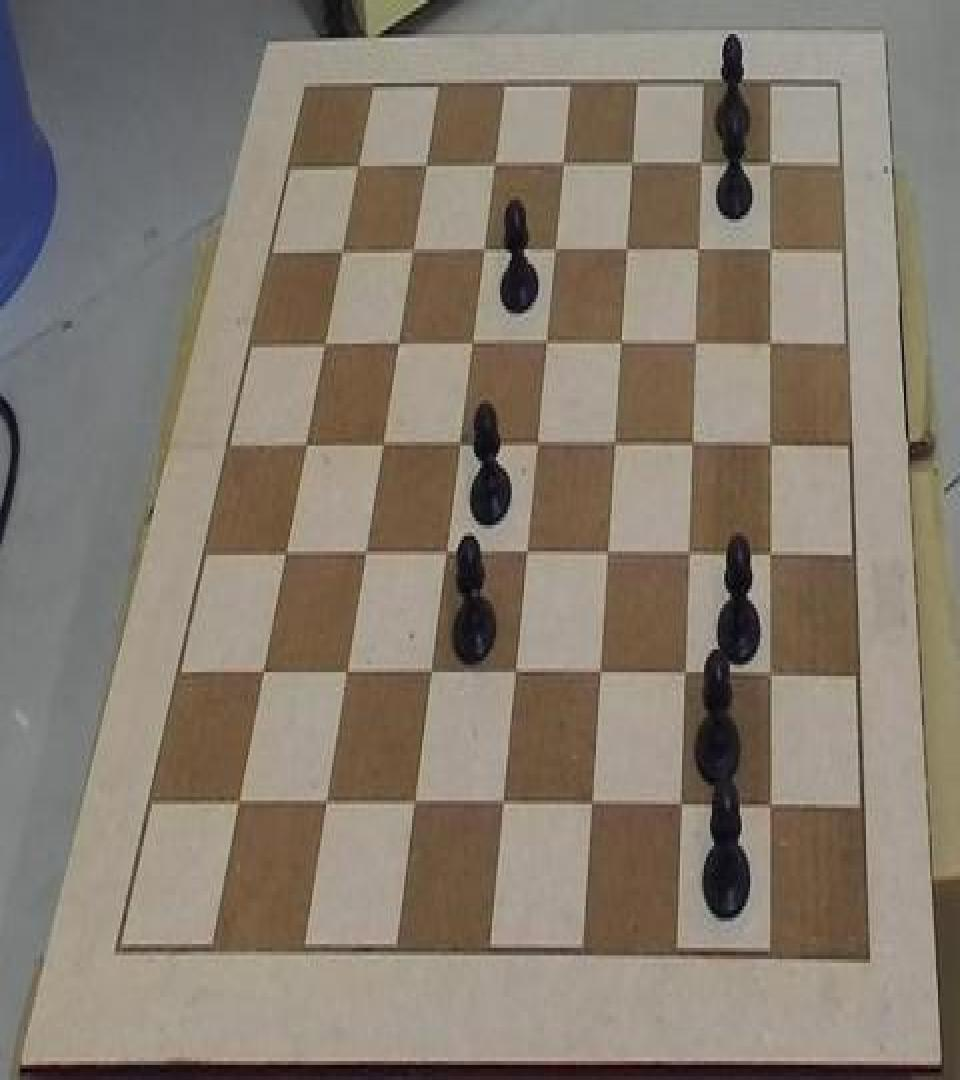xcorner: (759, 146, 779, 184), (690, 146, 710, 184), (622, 146, 642, 184), (553, 146, 573, 184), (485, 146, 505, 184), (416, 144, 436, 182), (347, 144, 367, 182), (760, 232, 780, 270), (688, 232, 708, 270), (617, 230, 637, 268), (546, 230, 566, 268), (474, 230, 494, 268), (403, 230, 423, 268), (332, 228, 352, 266), (760, 324, 780, 362), (686, 324, 706, 362), (612, 322, 632, 360), (538, 322, 558, 360), (463, 322, 483, 360), (389, 322, 409, 360), (315, 321, 335, 359), (761, 424, 781, 462), (684, 424, 704, 462), (606, 424, 626, 462), (529, 423, 549, 461), (451, 423, 471, 461), (374, 423, 394, 461), (297, 423, 317, 461), (762, 534, 782, 572), (681, 534, 701, 572), (600, 534, 620, 572), (519, 532, 539, 570), (438, 532, 458, 570), (357, 532, 377, 570), (277, 532, 297, 570), (763, 655, 783, 693), (678, 655, 698, 693), (593, 653, 613, 691), (509, 653, 529, 691), (424, 653, 444, 691), (339, 652, 359, 690), (255, 652, 275, 690), (764, 787, 784, 825), (675, 787, 695, 825), (586, 786, 606, 824), (497, 786, 517, 824), (408, 784, 428, 822), (319, 784, 339, 822), (231, 784, 251, 822)
